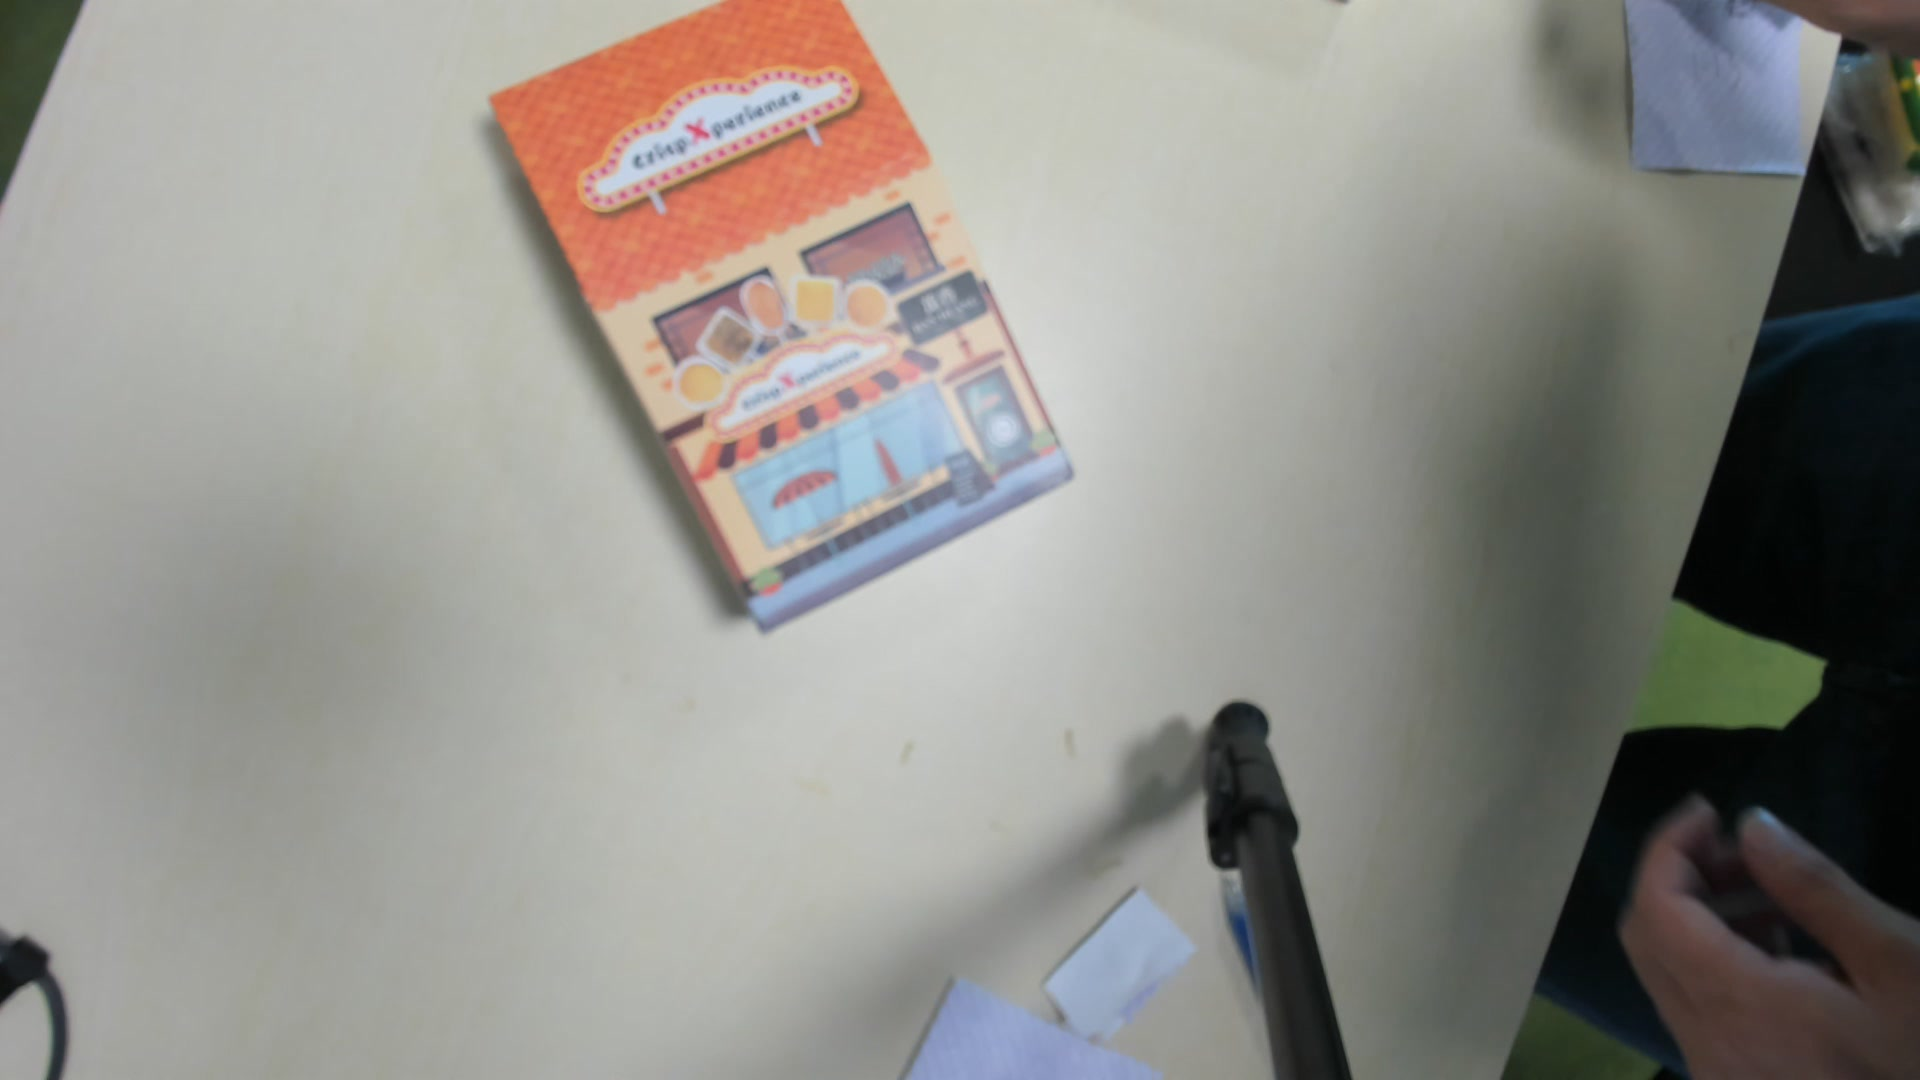SweetsChocolatesOthers_0-99g_Halal_Nonhealthy: (487, 1, 1087, 647)
